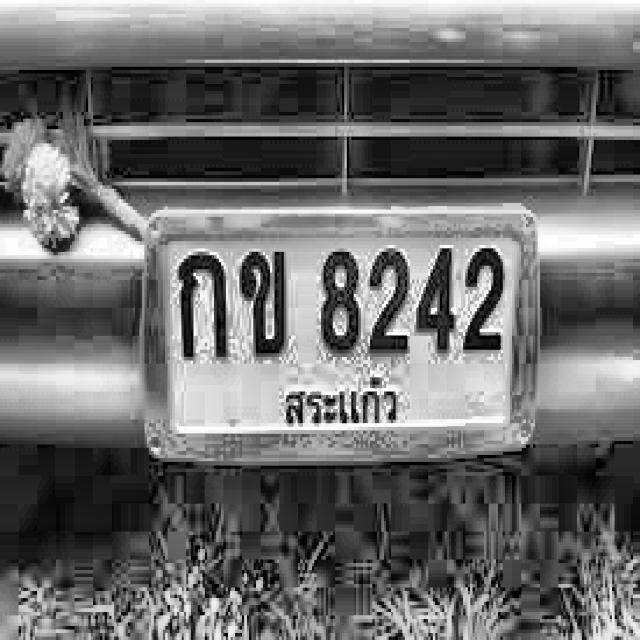license-plate: (142, 197, 544, 460)
